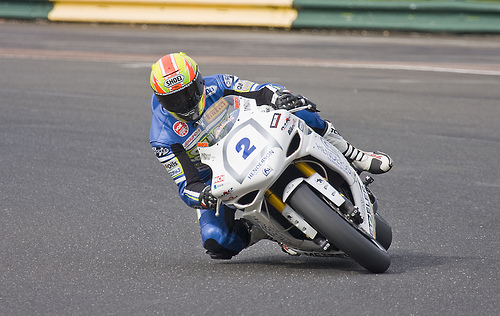helmet: (148, 54, 209, 115)
